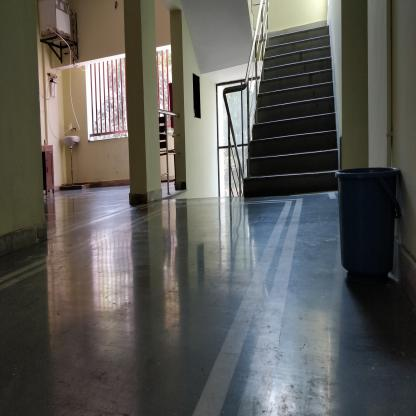stairs: (270, 31, 330, 200)
